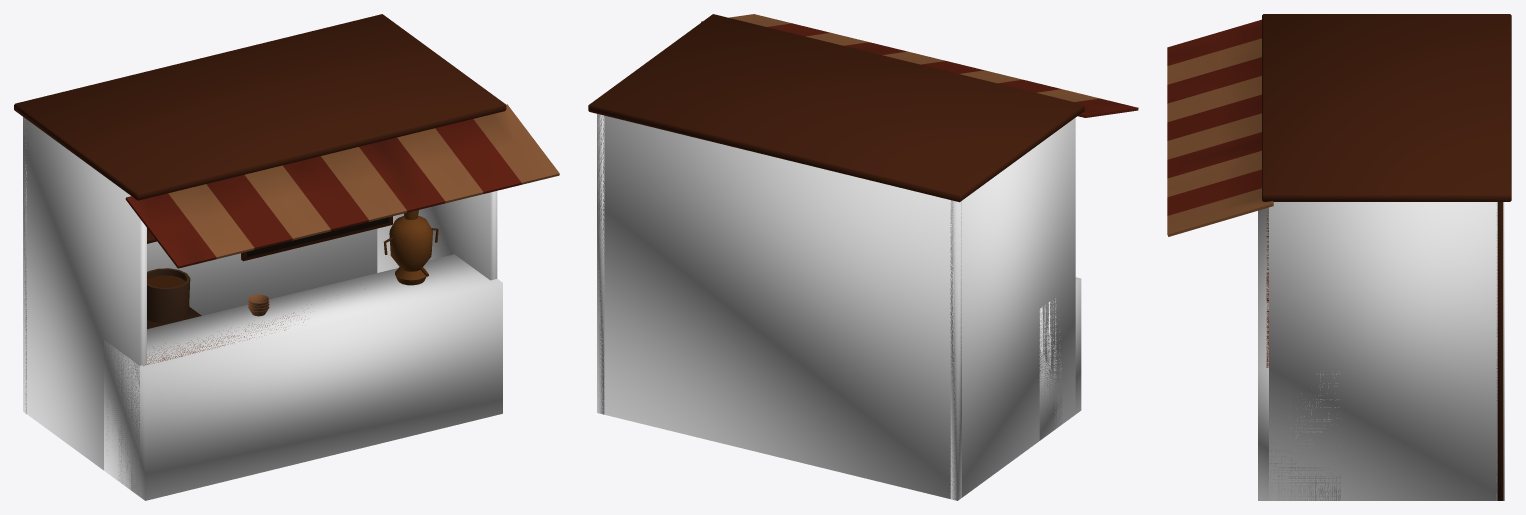
File: puesto_comida.glb
3 renders of one model, left to right at view 1: azimuth 30°, elevation 25°; view 2: azimuth 150°, elevation 25°; view 3: azimuth 270°, elevation 25°, orthographic.
Visible parts, largest first — view 1: puesto, mostrador-colcaja, costado_izq-colcaja, fondo-colcaja, costado_der-colcaja; view 2: fondo-colcaja, puesto, costado_izq-colcaja, mostrador-colcaja, costado_der-colcaja; view 3: costado_der-colcaja, puesto, mostrador-colcaja.
Boxes of the visible parts, left/top/right/bottom form: puesto: left=14, top=14, right=559, bottom=365; mostrador-colcaja: left=104, top=254, right=502, bottom=500; costado_izq-colcaja: left=23, top=117, right=146, bottom=496; fondo-colcaja: left=23, top=117, right=377, bottom=413; costado_der-colcaja: left=377, top=191, right=497, bottom=280; fondo-colcaja: left=597, top=114, right=961, bottom=500; puesto: left=588, top=14, right=1138, bottom=202; costado_izq-colcaja: left=950, top=118, right=1075, bottom=500; mostrador-colcaja: left=1039, top=277, right=1081, bottom=440; costado_der-colcaja: left=597, top=114, right=604, bottom=414; costado_der-colcaja: left=1269, top=202, right=1504, bottom=500; puesto: left=1167, top=14, right=1511, bottom=500; mostrador-colcaja: left=1258, top=207, right=1340, bottom=500.
Bounding box in the file's own units: 3.2 × 2.46 × 2.48.
